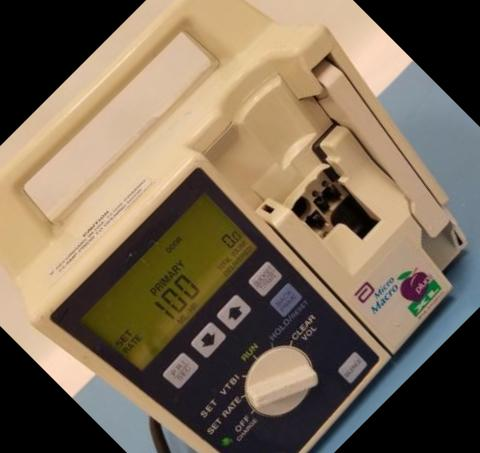plumxl1: (4, 6, 472, 446)
